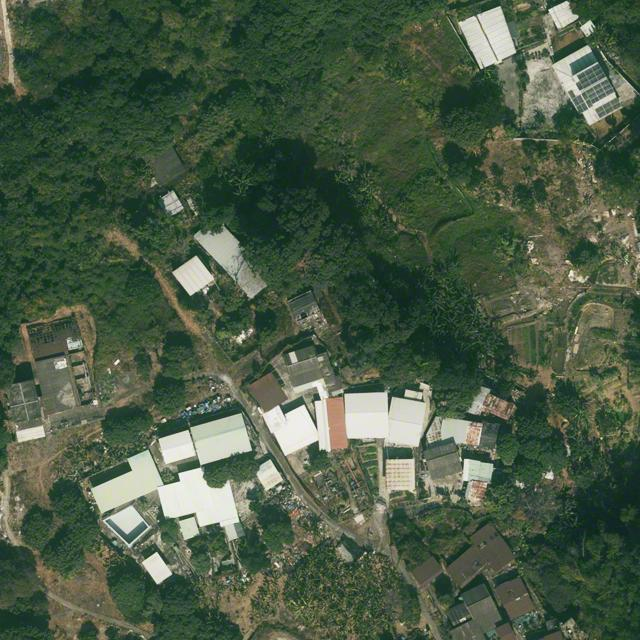panel: (585, 79, 616, 104), (576, 63, 606, 88), (595, 98, 623, 118), (572, 95, 588, 114), (581, 91, 594, 109), (575, 81, 584, 91), (568, 89, 576, 99)
